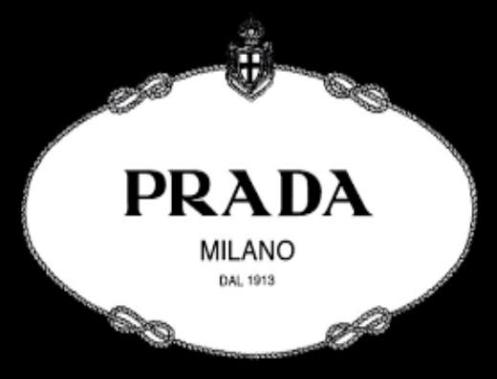PRADA: (117, 153, 372, 225)
